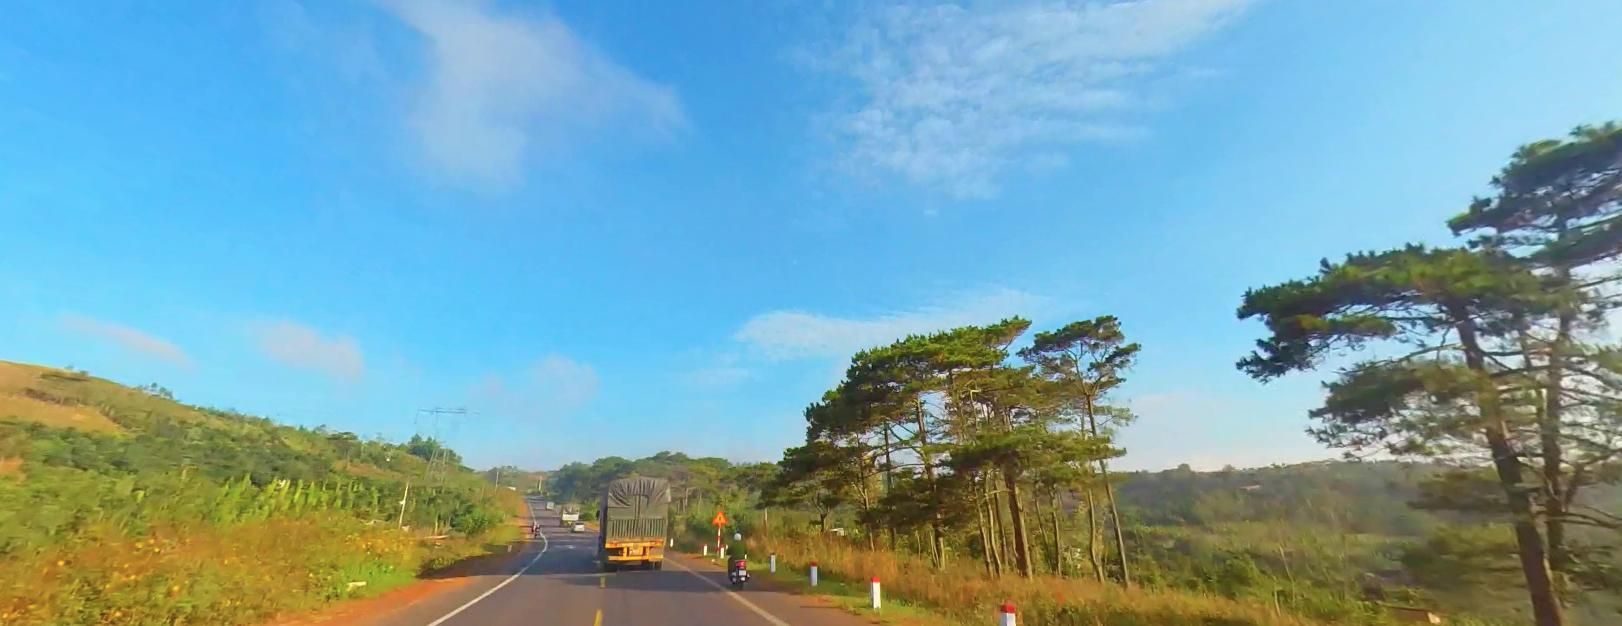Nguy hiem: (711, 509, 727, 523)
